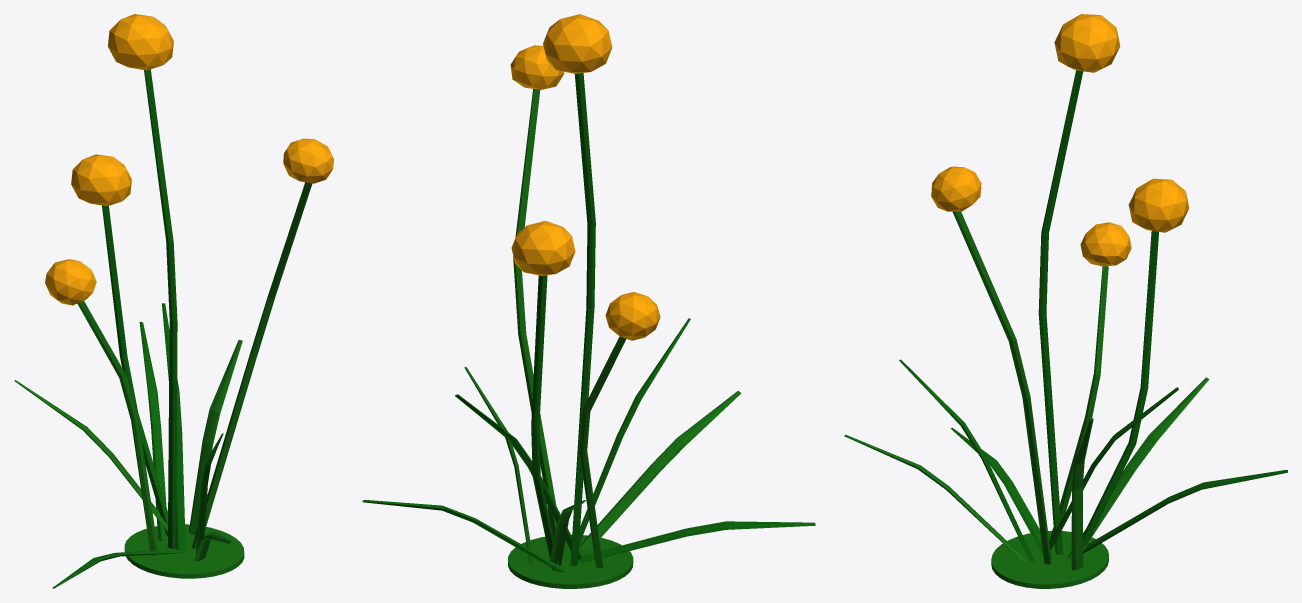
The model's file is Billy_Buttons.obj.
3 views of the same model, side by side, from view 1: azimuth 30°, elevation 25°; view 2: azimuth 150°, elevation 25°; view 3: azimuth 270°, elevation 25° (orthographic). The views are drawn at different scales.
Visible parts, largest first — view 1: Billy_Buttons; view 2: Billy_Buttons; view 3: Billy_Buttons.
Boxes of the visible parts, box(x1,y1,x2,y2) form: Billy_Buttons: box(14, 14, 333, 588); Billy_Buttons: box(362, 14, 815, 588); Billy_Buttons: box(844, 14, 1287, 588).
Bounding box in the file's own units: 0.2863 × 0.52 × 0.3914.
